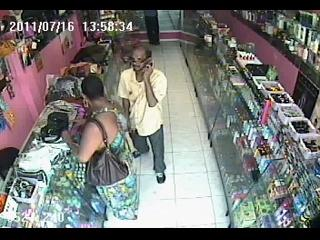Normal: (61, 75, 140, 222), (118, 45, 168, 184)
